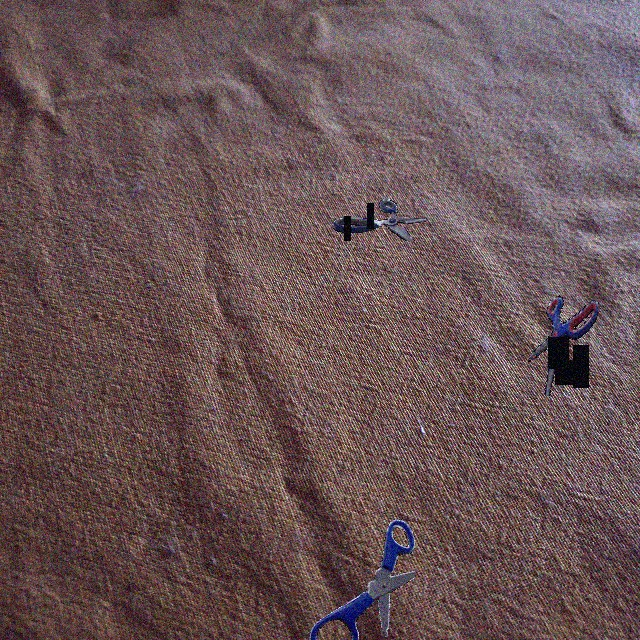scissors: (309, 519, 415, 640), (528, 295, 598, 396), (332, 199, 426, 241)
